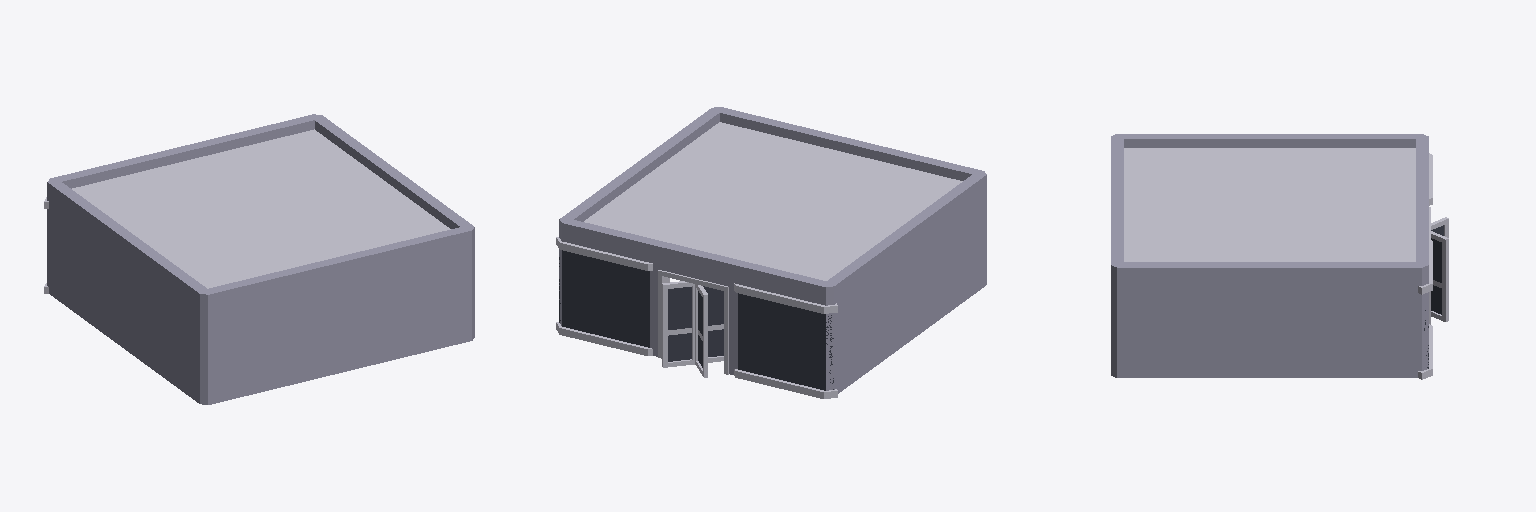
The model's file is SimpleModel.obj.
3 renders of one model, left to right at view 1: azimuth 30°, elevation 25°; view 2: azimuth 150°, elevation 25°; view 3: azimuth 270°, elevation 25°, orthographic.
Bounding box in the file's own units: 3.21 × 1.2 × 3.33.